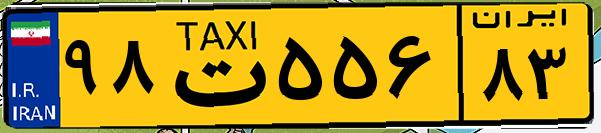3: (525, 38, 570, 115)
5: (270, 28, 330, 110), (330, 28, 385, 110)
6: (385, 28, 445, 110)
8: (475, 38, 525, 113), (110, 28, 158, 98)
9: (57, 26, 110, 100)
ت: (158, 12, 270, 120)
